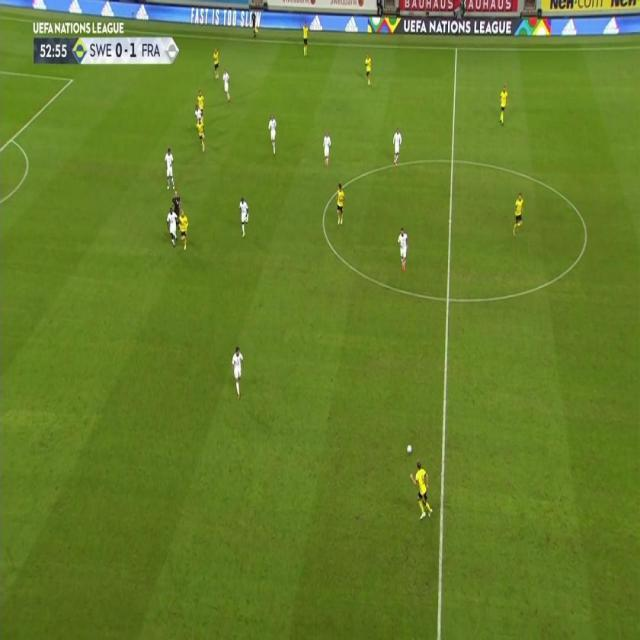ball: (406, 442, 413, 455)
player: (409, 460, 435, 521), (229, 344, 245, 401), (163, 146, 178, 192), (512, 191, 526, 237), (396, 226, 409, 272), (165, 207, 179, 248), (238, 196, 251, 240), (177, 208, 190, 251), (334, 181, 346, 226), (497, 84, 509, 127), (267, 113, 279, 155), (392, 127, 404, 166), (322, 130, 333, 168), (196, 116, 206, 153), (221, 68, 232, 101), (364, 51, 373, 86), (212, 46, 221, 81), (301, 21, 310, 56), (196, 89, 206, 108), (194, 104, 203, 122)
referee: (170, 188, 182, 218), (250, 8, 259, 38)
